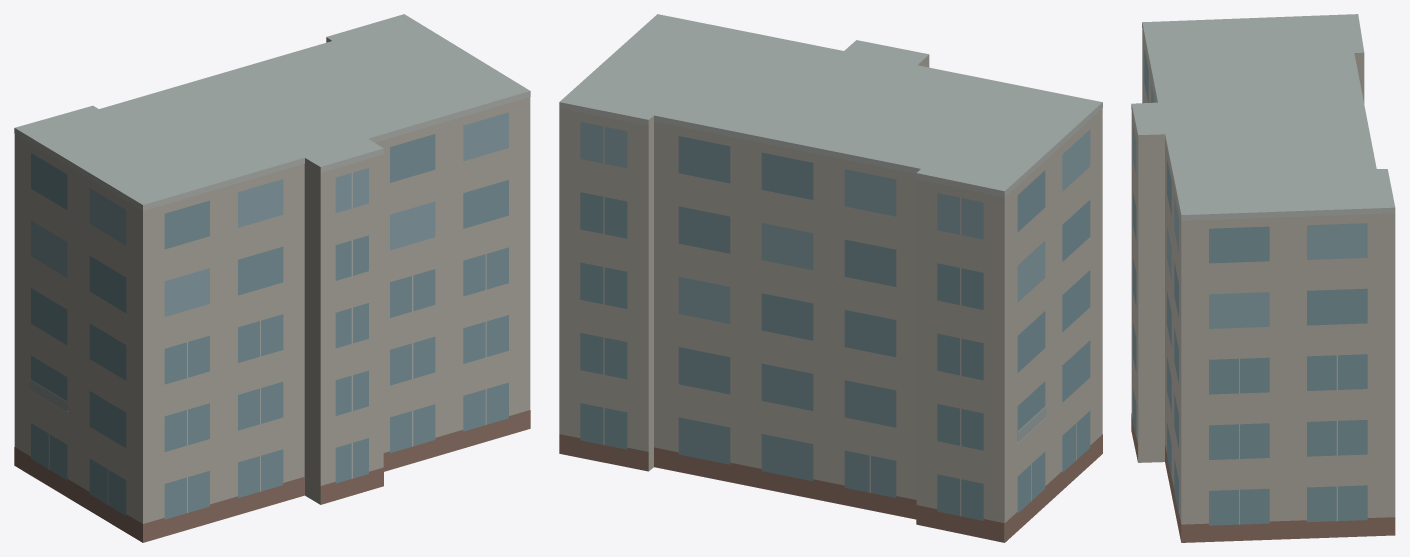
Rendered from survey-upis-32915900.glb.
3 views of the same model, side by side, from view 1: azimuth 30°, elevation 25°; view 2: azimuth 150°, elevation 25°; view 3: azimuth 270°, elevation 25° (orthographic). The views are drawn at different scales.
Visible parts, largest first — view 1: survey-upis-32915900.tmp; view 2: survey-upis-32915900.tmp; view 3: survey-upis-32915900.tmp.
Boxes of the visible parts, x1,y1,x2,y2 form: survey-upis-32915900.tmp: [14, 14, 530, 542]; survey-upis-32915900.tmp: [559, 14, 1102, 542]; survey-upis-32915900.tmp: [1131, 14, 1395, 542].
Size of the model in its own units: 18.17 by 13.8 by 10.08.
